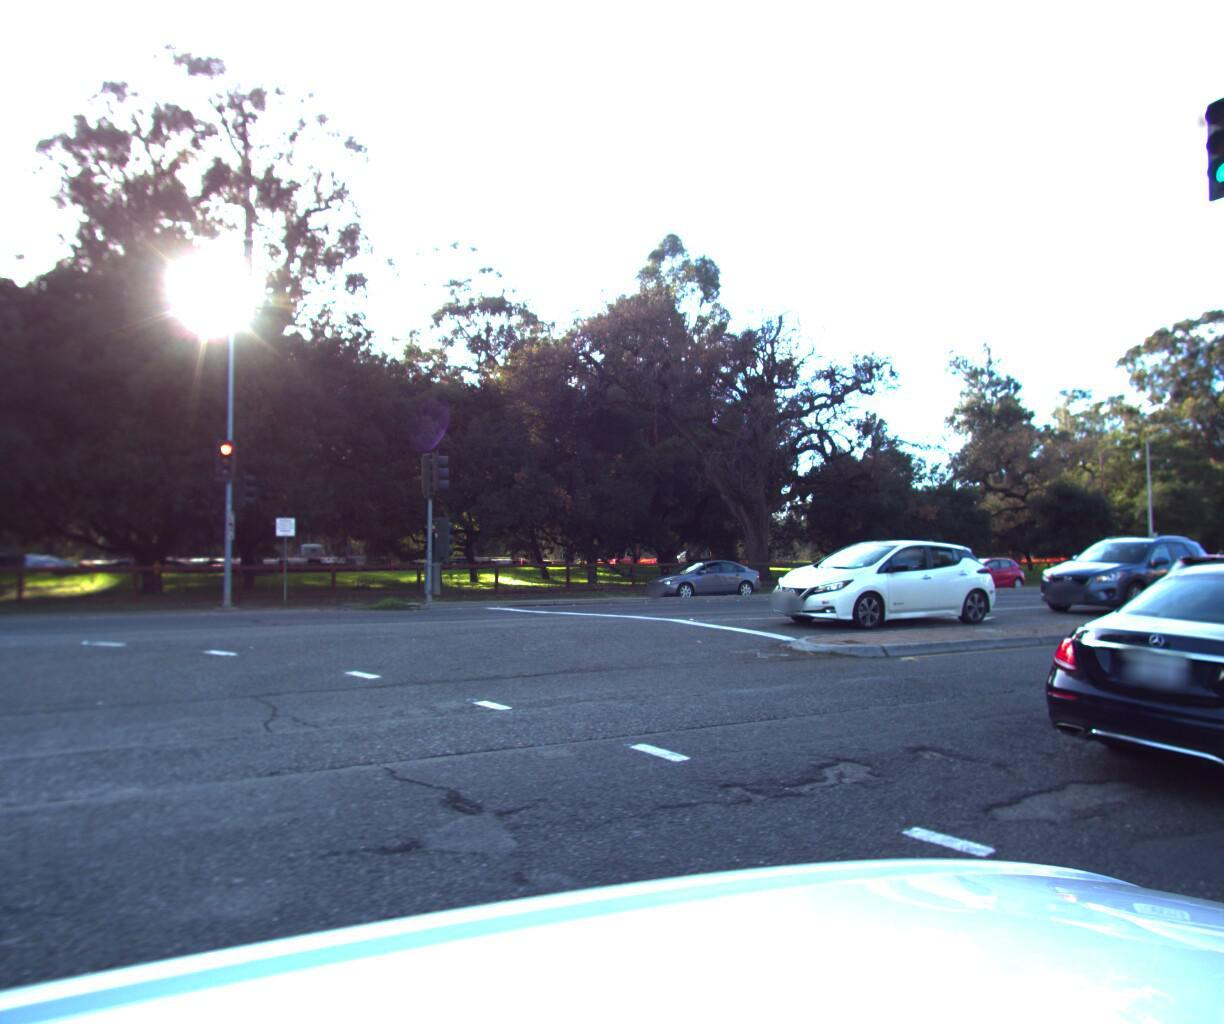car: (1008, 547, 1224, 843), (751, 533, 1005, 631), (1026, 530, 1224, 619), (1096, 539, 1224, 660), (637, 556, 767, 599), (930, 554, 1027, 590)
